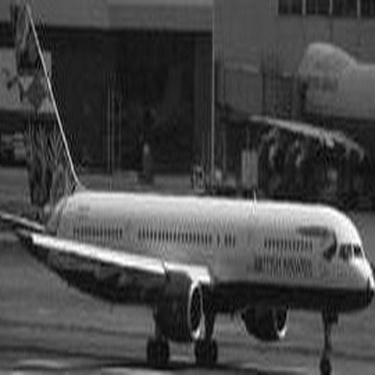airplane: (1, 6, 370, 372), (224, 24, 369, 191)
